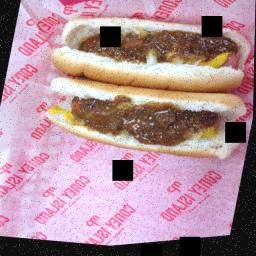hotdog: (15, 56, 255, 190), (37, 0, 256, 116)
